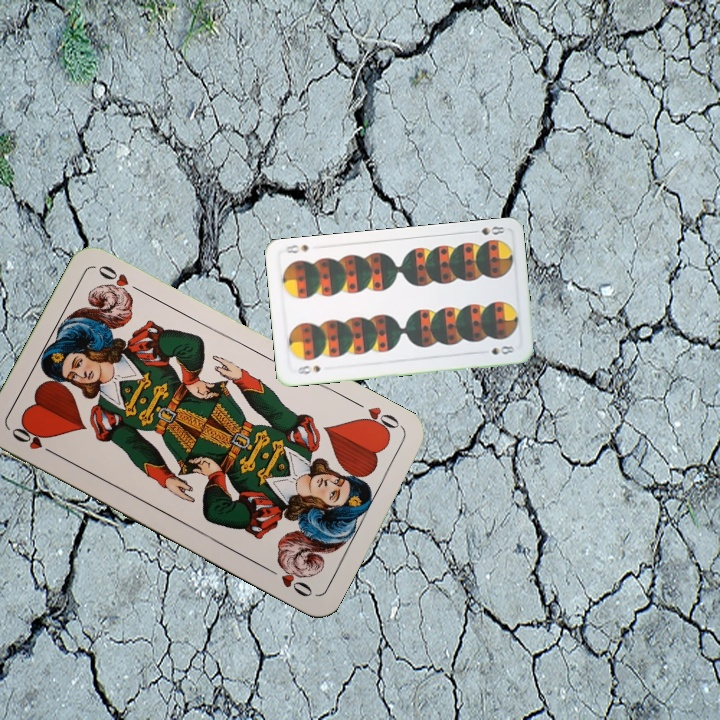HO: (7, 421, 61, 459), (354, 402, 406, 439)
S8: (467, 222, 507, 238), (294, 361, 323, 377)
